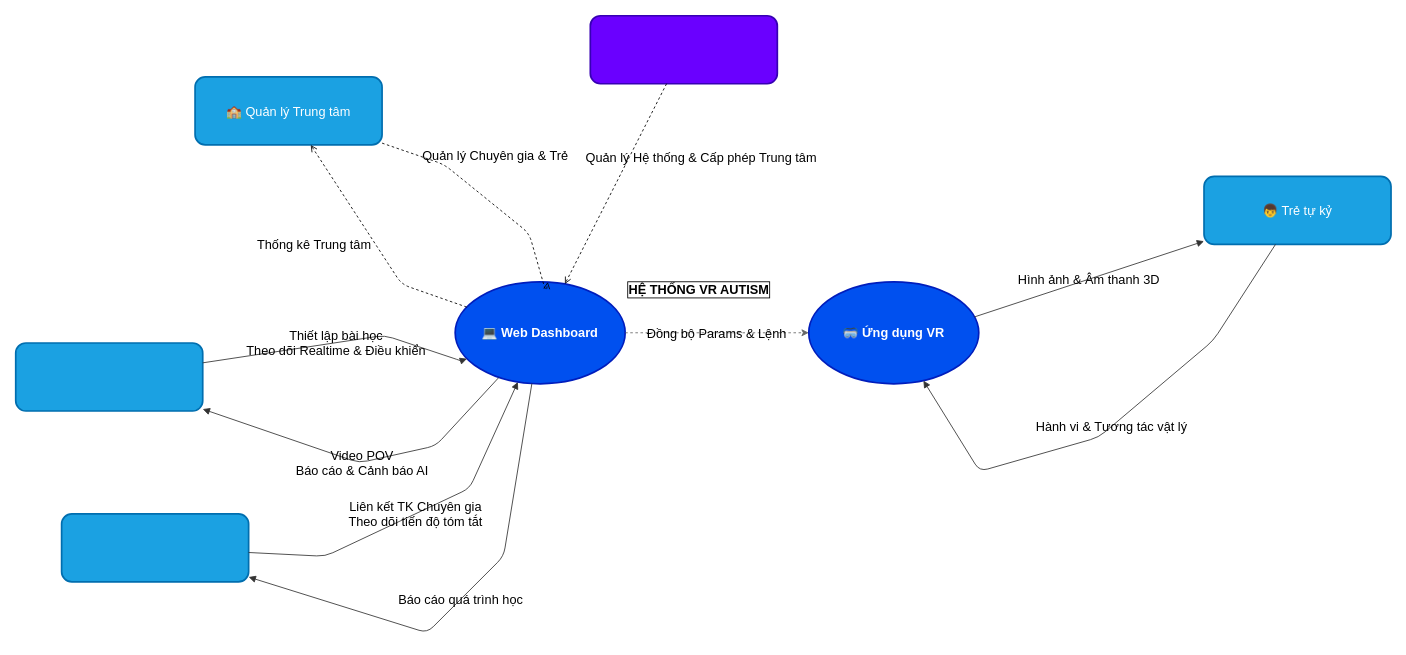
Image size: 1406x655. Some labels were removed from this diagram. The shapes that lost their labels are listed below. From the top down, each one's centre as x and y in pixels, then its label:
At point (683, 49): "👑 System Admin".
At point (108, 376): "👨‍🏫 Chuyên gia / Giáo viên".
At point (154, 547): "👨‍👩‍👦 Phụ huynh".
